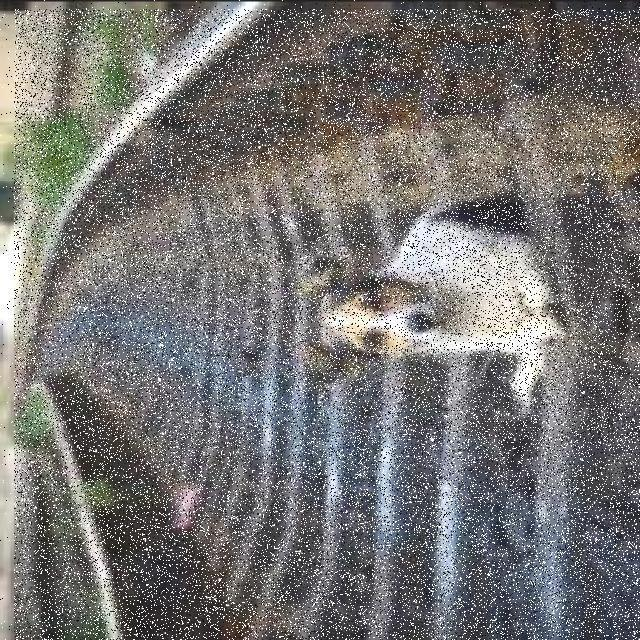rail: (15, 10, 640, 640)
